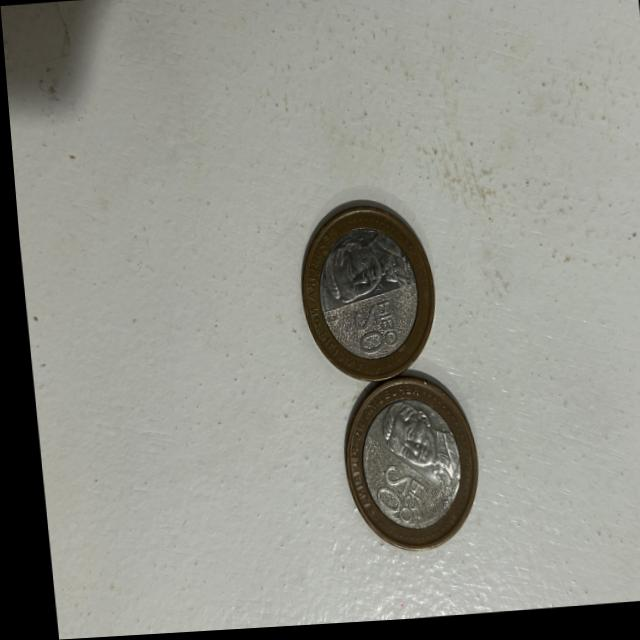20_New_Front: (361, 457, 419, 530), (339, 301, 400, 365)
